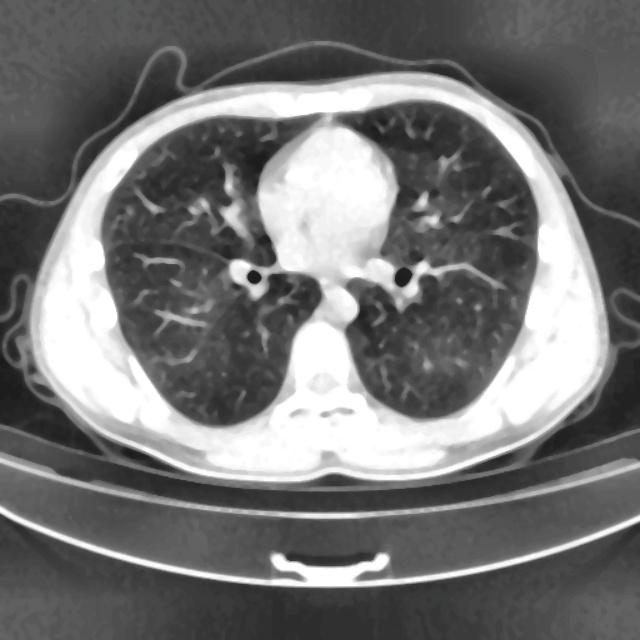covid: (26, 60, 612, 486)
